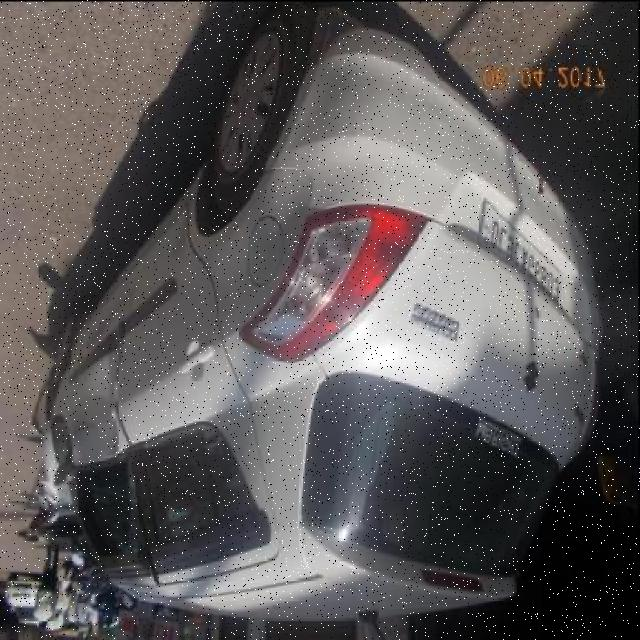damage: (70, 277, 161, 580)
